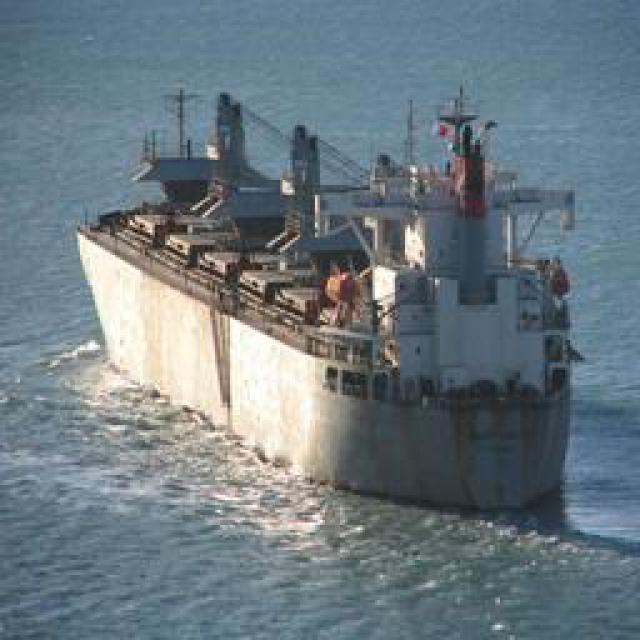Ship: (75, 70, 585, 508)
